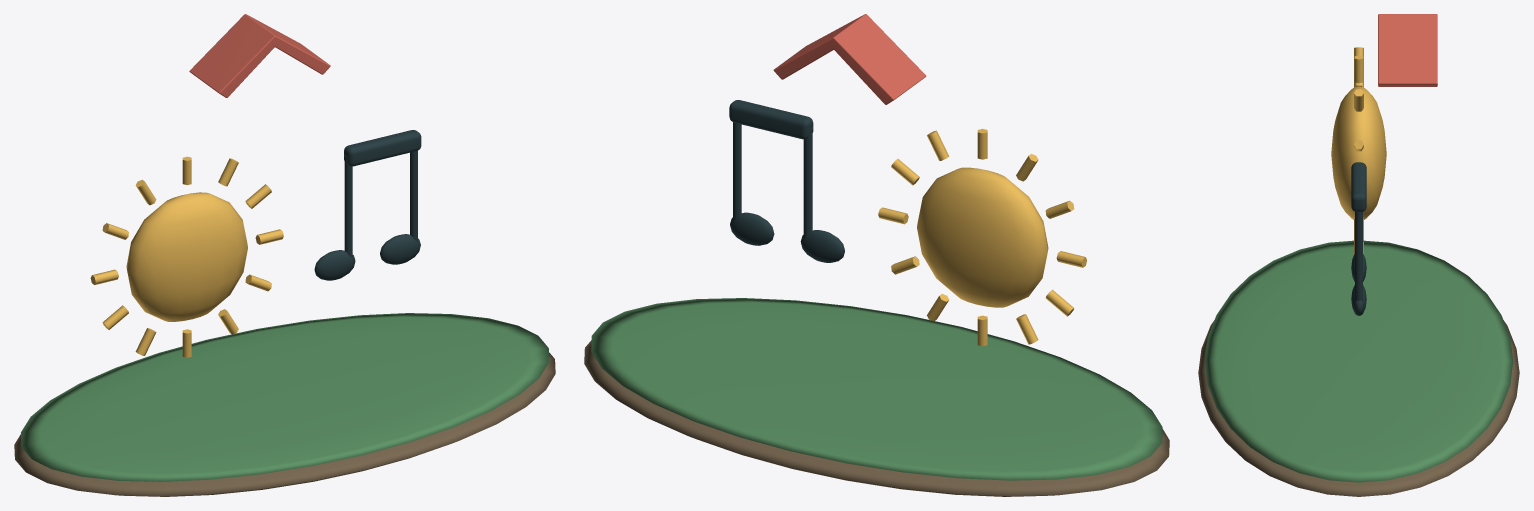
The model's file is complete-third-sun-sound-dimness.glb.
3 renders of one model, left to right at view 1: azimuth 30°, elevation 25°; view 2: azimuth 150°, elevation 25°; view 3: azimuth 270°, elevation 25°, orthographic. The views are drawn at different scales.
Visible parts, largest first — view 1: complete-third-sun-sound-dimness_surface_01, complete-third-sun-sound-dimness_surface_02, complete-third-sun-sound-dimness_surface_00, complete-third-sun-sound-dimness_surface_03, complete-third-sun-sound-dimness_surface_04; view 2: complete-third-sun-sound-dimness_surface_01, complete-third-sun-sound-dimness_surface_02, complete-third-sun-sound-dimness_surface_00, complete-third-sun-sound-dimness_surface_03, complete-third-sun-sound-dimness_surface_04; view 3: complete-third-sun-sound-dimness_surface_01, complete-third-sun-sound-dimness_surface_00, complete-third-sun-sound-dimness_surface_02, complete-third-sun-sound-dimness_surface_04, complete-third-sun-sound-dimness_surface_03.
Part boxes in pixels (box(x1,y1,x2,y2)): complete-third-sun-sound-dimness_surface_01: box(21, 313, 548, 481); complete-third-sun-sound-dimness_surface_02: box(90, 156, 283, 357); complete-third-sun-sound-dimness_surface_00: box(14, 352, 555, 496); complete-third-sun-sound-dimness_surface_03: box(314, 130, 421, 280); complete-third-sun-sound-dimness_surface_04: box(189, 14, 330, 97); complete-third-sun-sound-dimness_surface_01: box(591, 298, 1162, 480); complete-third-sun-sound-dimness_surface_02: box(878, 128, 1086, 346); complete-third-sun-sound-dimness_surface_00: box(584, 340, 1169, 496); complete-third-sun-sound-dimness_surface_03: box(729, 100, 844, 262); complete-third-sun-sound-dimness_surface_04: box(773, 14, 926, 104); complete-third-sun-sound-dimness_surface_01: box(1204, 240, 1513, 482); complete-third-sun-sound-dimness_surface_00: box(1198, 320, 1519, 496); complete-third-sun-sound-dimness_surface_02: box(1331, 47, 1386, 254); complete-third-sun-sound-dimness_surface_04: box(1378, 14, 1437, 86); complete-third-sun-sound-dimness_surface_03: box(1351, 162, 1366, 315).
Size of the model in its own units: 4.56 by 3.21 by 2.5.
